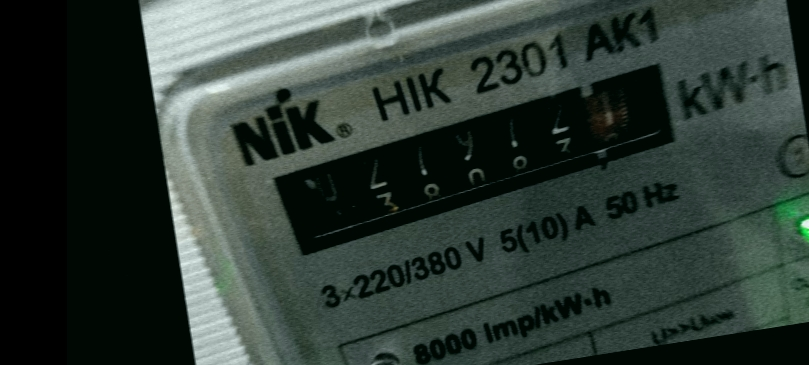0: (310, 166, 343, 206)
1: (594, 85, 622, 131)
2: (357, 149, 392, 192), (541, 96, 574, 137)
7: (495, 109, 527, 153), (406, 140, 434, 180)
9: (451, 125, 482, 164)
screen: (247, 49, 718, 270)
